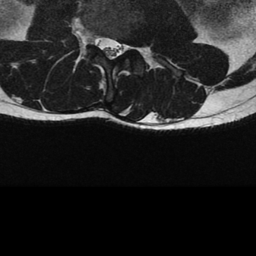CCS_normal: (106, 27, 116, 65)
LFS_stenosis: (126, 30, 136, 60)
LLS_normal: (116, 29, 126, 62)
RFS_normal: (86, 20, 96, 52)
RLS_normal: (96, 25, 106, 60)
